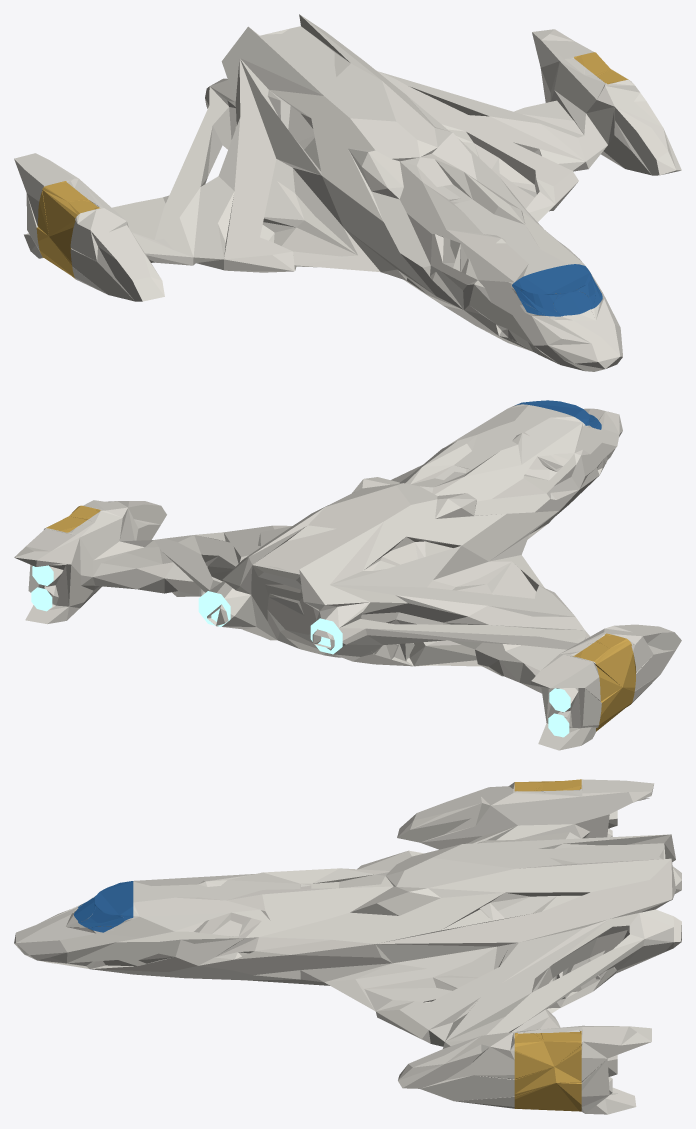
The model's file is imperial-clipper.glb.
3 renders of one model, top to bottom at view 1: azimuth 30°, elevation 25°; view 2: azimuth 150°, elevation 25°; view 3: azimuth 270°, elevation 25°, orthographic. The views are drawn at different scales.
Parts seen in each view (by area): view 1: imperial-clipper; view 2: imperial-clipper; view 3: imperial-clipper.
Boxes of the visible parts, left/top/right/bottom form: imperial-clipper: left=14, top=14, right=681, bottom=371; imperial-clipper: left=14, top=400, right=681, bottom=750; imperial-clipper: left=14, top=779, right=681, bottom=1114.
Size of the model in its own units: 103 by 24.16 by 106.
